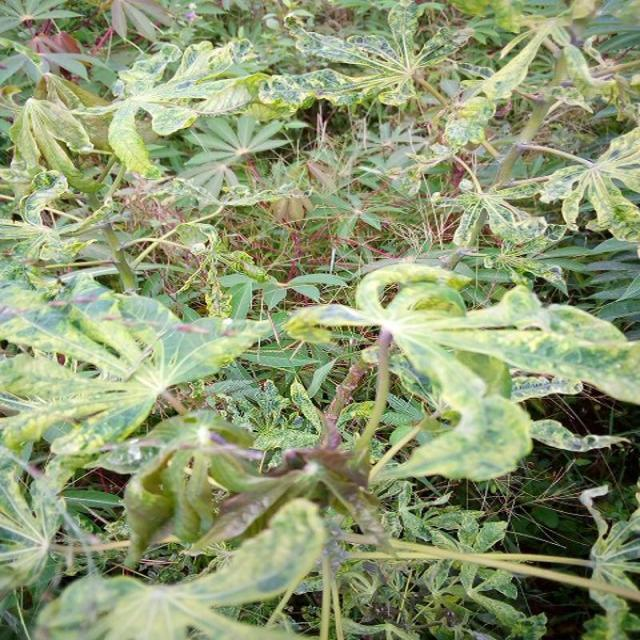cassava leaf: (284, 259, 638, 484), (0, 272, 271, 461)
